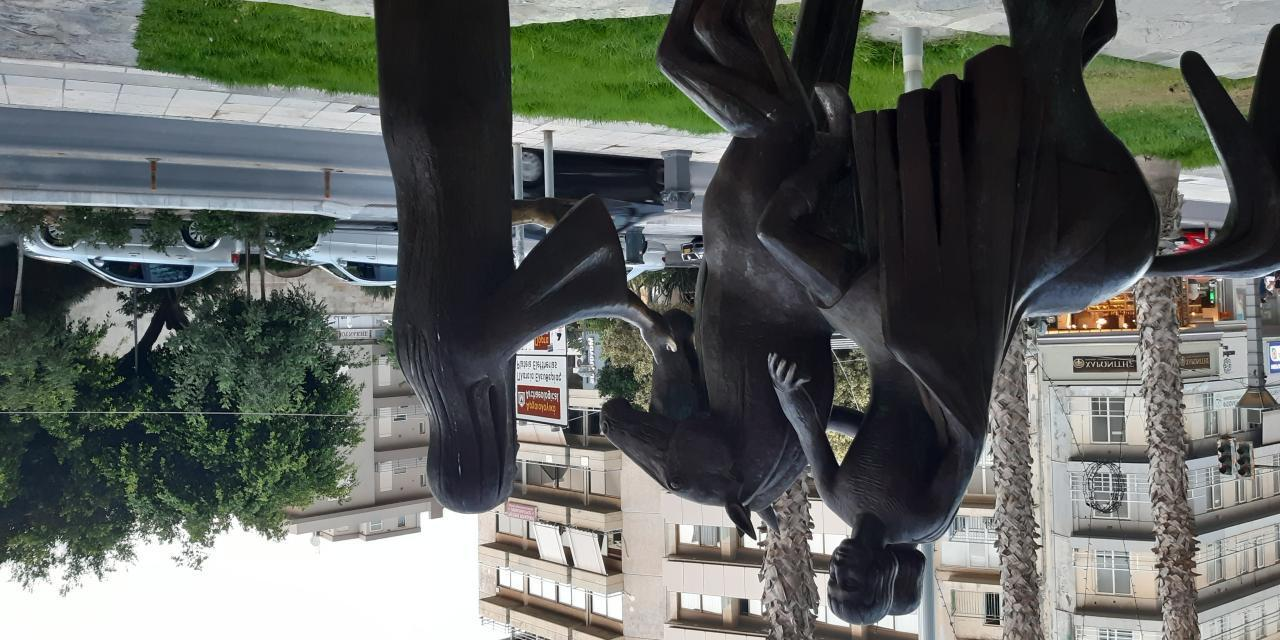Aretousa: (378, 1, 1280, 626)
